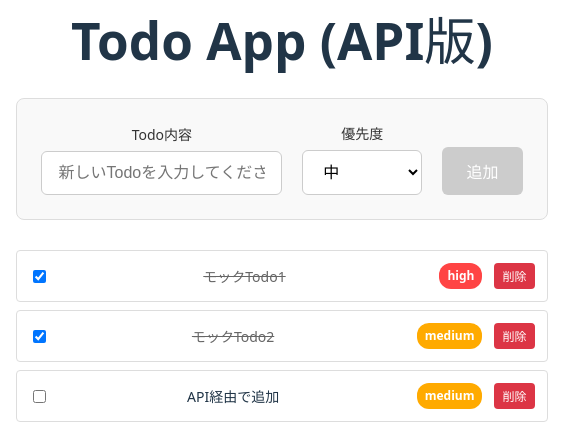
Test: TodoApp統合テスト › API版 - MSW統合テスト › TodoをAPI経由で削除する
Click the button "削除" next to "high".
click(514, 276)  # box [494,263,534,289]
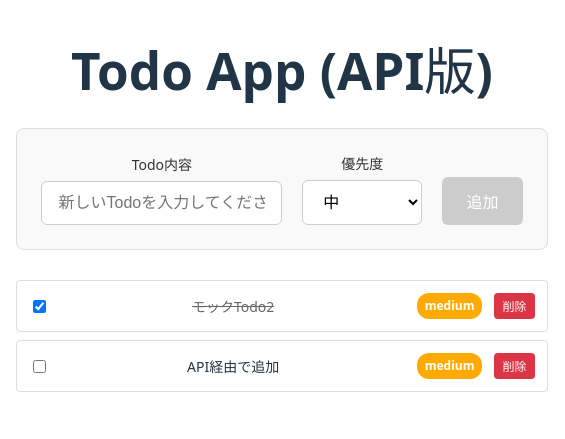
Result: the text "モックTodo1" is gone
